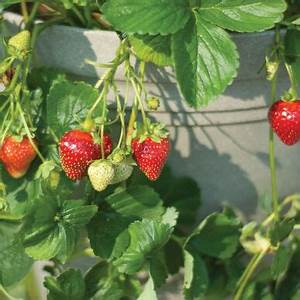Fresa: (56, 121, 117, 187), (122, 122, 174, 184), (1, 125, 42, 182), (265, 94, 300, 148)
